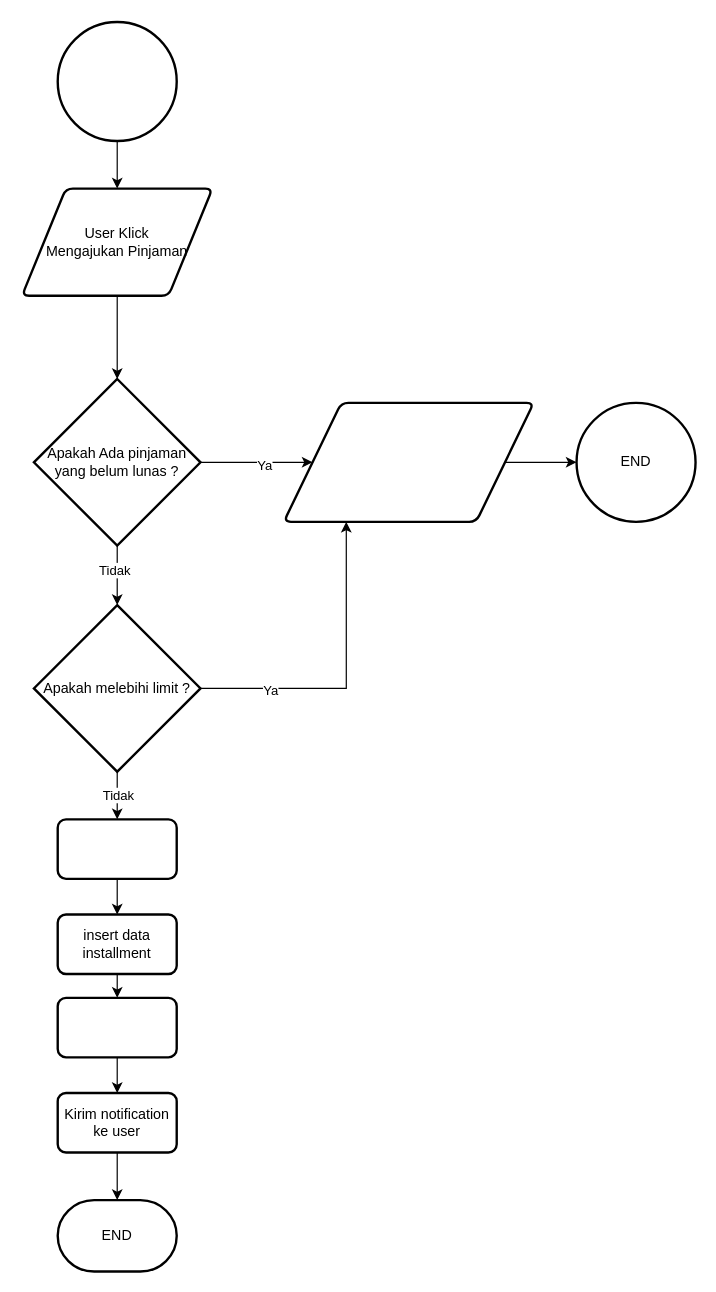
Image size: 716x1292. Some labels were removed from this diagram. Here are the shapes that lost their labels. From the top down, the centre of each, then its label:
At point (116, 81): "START".
At point (408, 461): "Gagal melakukan pinjaman".
At point (116, 848): "proses peminjaman".
At point (116, 1027): "Disbursement".
